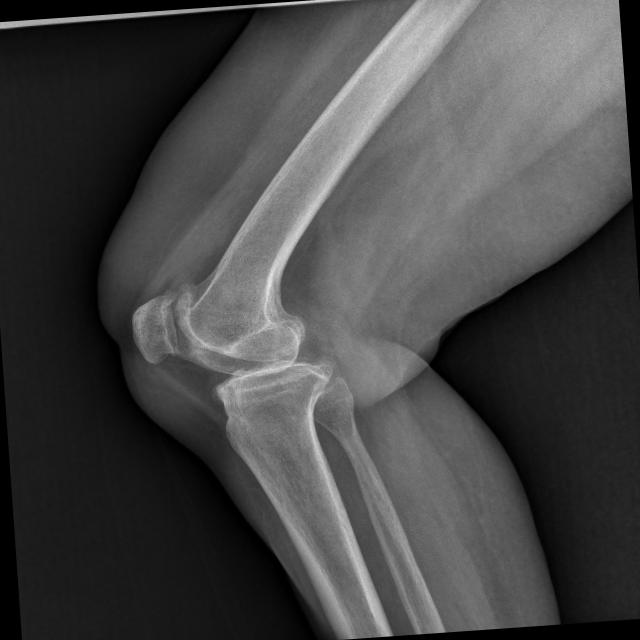Knee: (122, 267, 334, 458)
